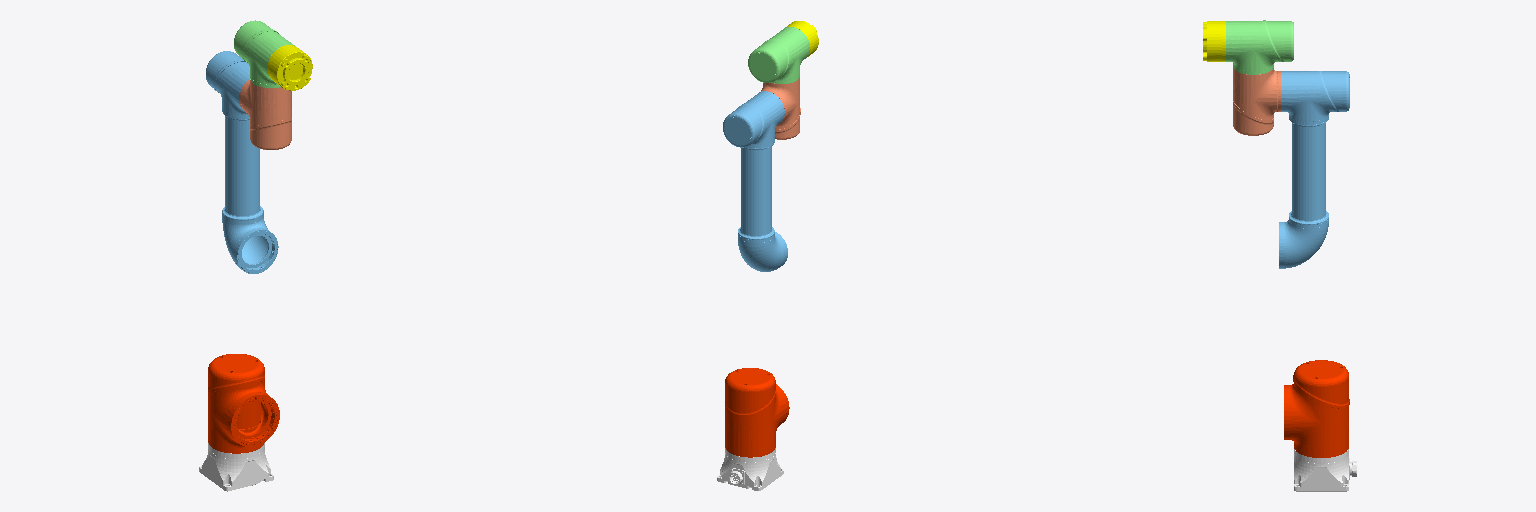
URDF robot description (ROCR6II_URDF_Vertical initialization):
<?xml version="1.0" encoding="utf-8"?>
<!-- This URDF was automatically created by SolidWorks to URDF Exporter! Originally created by [author] ([email redacted]) 
     Commit Version: 1.6.0-1-g15f4949  Build Version: 1.6.7594.29634
     For more information, please see http://wiki.ros.org/sw_urdf_exporter -->
<robot
  name="ROCR6II_URDF_Vertical initialization">
<link name="world" />
  <joint name="world_joint" type="fixed">
    <parent link="world" />
    <child link = "base_link" />
    <origin xyz="0.0 0.0 0.0" rpy="3.1415926536 3.1415926536  0.0" />
  </joint>
  <link name="base"/>
  <joint name="base_link-base_fixed_joint" type="fixed">
      <!-- NOTE: this rotation is only needed as long as base_link itself is
                 not corrected wrt the real robot (ie: rotated over 180
                 degrees)
      -->
      <origin xyz="0 0 0" rpy="0 0 -3.1415926536"/>
      <parent link="base_link"/>
      <child link="base"/>
    </joint>
  <link
    name="base_link">
    <inertial>
      <origin
        xyz="6.0184E-05 -0.0017311 0.027527"
        rpy="0 0 0" />
      <mass
        value="0.13958" />
      <inertia
        ixx="0.00015991"
        ixy="-3.4808E-07"
        ixz="1.9728E-07"
        iyy="0.00016434"
        iyz="5.3805E-07"
        izz="0.0002501" />
    </inertial>
    <visual>
      <origin
        xyz="0 0 0"
        rpy="0 0 0" />
      <geometry>
        <mesh
          filename="package://ROCR6II_URDF_Vertical initialization/meshes/base_link.STL" />
      </geometry>
      <material
        name="">
        <color
          rgba="1 1 1 1" />
      </material>
    </visual>
    <collision>
      <origin
        xyz="0 0 0"
        rpy="0 0 0" />
      <geometry>
        <mesh
          filename="package://ROCR6II_URDF_Vertical initialization/meshes/base_link.STL" />
      </geometry>
    </collision>
  </link>
  <link
    name="shoulder_Link">
    <inertial>
      <origin
        xyz="4.3598E-08 0.0037213 0.0030784"
        rpy="0 0 0" />
      <mass
        value="0.85978" />
      <inertia
        ixx="0.0016777"
        ixy="-6.0007E-09"
        ixz="-2.8617E-09"
        iyy="0.0016433"
        iyz="2.3262E-05"
        izz="0.0010333" />
    </inertial>
    <visual>
      <origin
        xyz="0 0 0"
        rpy="0 0 0" />
      <geometry>
        <mesh
          filename="package://ROCR6II_URDF_Vertical initialization/meshes/shoulder_Link.STL" />
      </geometry>
      <material
        name="">
        <color
          rgba="1 0.27059 0 1" />
      </material>
    </visual>
    <collision>
      <origin
        xyz="0 0 0"
        rpy="0 0 0" />
      <geometry>
        <mesh
          filename="package://ROCR6II_URDF_Vertical initialization/meshes/shoulder_Link.STL" />
      </geometry>
    </collision>
  </link>
  <joint
    name="shoulder_pan_joint"
    type="revolute">
    <origin
      xyz="0 0 0.1215"
      rpy="0 0 0" />
    <parent
      link="base_link" />
    <child
      link="shoulder_Link" />
    <axis
      xyz="0 0 1" />
    <limit
      lower="-3.1416"
      upper="3.1416"
      effort="150"
      velocity="30" />
  </joint>
  <link
    name="upper_arm_Link">
    <inertial>
      <origin
        xyz="-3.3972E-07 0.0032878 0.12622"
        rpy="0 0 0" />
      <mass
        value="1.638" />
      <inertia
        ixx="0.0031418"
        ixy="-7.428E-09"
        ixz="-8.1931E-09"
        iyy="0.0024219"
        iyz="8.4156E-05"
        izz="0.0023531" />
    </inertial>
    <visual>
      <origin
        xyz="0 0 0"
        rpy="0 0 0" />
      <geometry>
        <mesh
          filename="package://ROCR6II_URDF_Vertical initialization/meshes/upper_arm_Link.STL" />
      </geometry>
      <material
        name="">
        <color
          rgba="0.48235 0.40784 0.93333 1" />
      </material>
    </visual>
    <collision>
      <origin
        xyz="0 0 0"
        rpy="0 0 0" />
      <geometry>
        <mesh
          filename="package://ROCR6II_URDF_Vertical initialization/meshes/upper_arm_Link.STL" />
      </geometry>
    </collision>
  </link>
  <joint
    name="shoulder_lift_joint"
    type="revolute">
    <origin
      xyz="0 0.1225 0"
      rpy="0 0 0" />
    <parent
      link="shoulder_Link" />
    <child
      link="upper_arm_Link" />
    <axis
      xyz="0 1 0" />
    <limit
      lower="-3.1416"
      upper="3.1416"
      effort="150"
      velocity="30" />
  </joint>
  <link
    name="forearm_Link">
    <inertial>
      <origin
        xyz="1.5572E-06 -0.0051519 0.20823"
        rpy="0 0 0" />
      <mass
        value="0.60459" />
      <inertia
        ixx="0.0011958"
        ixy="3.3305E-09"
        ixz="-3.0271E-09"
        iyy="0.00092459"
        iyz="2.7412E-05"
        izz="0.00067247" />
    </inertial>
    <visual>
      <origin
        xyz="0 0 0"
        rpy="0 0 0" />
      <geometry>
        <mesh
          filename="package://ROCR6II_URDF_Vertical initialization/meshes/forearm_Link.STL" />
      </geometry>
      <material
        name="">
        <color
          rgba="0.52941 0.80784 0.98039 1" />
      </material>
    </visual>
    <collision>
      <origin
        xyz="0 0 0"
        rpy="0 0 0" />
      <geometry>
        <mesh
          filename="package://ROCR6II_URDF_Vertical initialization/meshes/forearm_Link.STL" />
      </geometry>
    </collision>
  </link>
  <joint
    name="elbow_joint"
    type="revolute">
    <origin
      xyz="0 -0.102 0.3"
      rpy="0 0 0" />
    <parent
      link="upper_arm_Link" />
    <child
      link="forearm_Link" />
    <axis
      xyz="0 1 0" />
    <limit
      lower="-3.1416"
      upper="3.1416"
      effort="150"
      velocity="30" />
  </joint>
  <link
    name="wrist_1_Link">
    <inertial>
      <origin
        xyz="4.1946E-07 0.087294 -0.010645"
        rpy="0 0 0" />
      <mass
        value="0.39508" />
      <inertia
        ixx="0.00051251"
        ixy="8.0364E-10"
        ixz="9.9527E-10"
        iyy="0.00050131"
        iyz="1.198E-05"
        izz="0.00023941" />
    </inertial>
    <visual>
      <origin
        xyz="0 0 0"
        rpy="0 0 0" />
      <geometry>
        <mesh
          filename="package://ROCR6II_URDF_Vertical initialization/meshes/wrist_1_Link.STL" />
      </geometry>
      <material
        name="">
        <color
          rgba="1 0.62745 0.47843 1" />
      </material>
    </visual>
    <collision>
      <origin
        xyz="0 0 0"
        rpy="0 0 0" />
      <geometry>
        <mesh
          filename="package://ROCR6II_URDF_Vertical initialization/meshes/wrist_1_Link.STL" />
      </geometry>
    </collision>
  </link>
  <joint
    name="wrist_1_joint"
    type="revolute">
    <origin
      xyz="0 0 0.276"
      rpy="0 0 0" />
    <parent
      link="forearm_Link" />
    <child
      link="wrist_1_Link" />
    <axis
      xyz="0 1 0" />
    <limit
      lower="-3.1416"
      upper="3.1416"
      effort="150"
      velocity="30" />
  </joint>
  <link
    name="wrist_2_Link">
    <inertial>
      <origin
        xyz="4.4522E-10 -0.010645 0.087294"
        rpy="0 0 0" />
      <mass
        value="0.39508" />
      <inertia
        ixx="0.00051251"
        ixy="2.9744E-10"
        ixz="-1.2E-09"
        iyy="0.00023941"
        iyz="1.198E-05"
        izz="0.0005013" />
    </inertial>
    <visual>
      <origin
        xyz="0 0 0"
        rpy="0 0 0" />
      <geometry>
        <mesh
          filename="package://ROCR6II_URDF_Vertical initialization/meshes/wrist_2_Link.STL" />
      </geometry>
      <material
        name="">
        <color
          rgba="0.59608 0.98431 0.59608 1" />
      </material>
    </visual>
    <collision>
      <origin
        xyz="0 0 0"
        rpy="0 0 0" />
      <geometry>
        <mesh
          filename="package://ROCR6II_URDF_Vertical initialization/meshes/wrist_2_Link.STL" />
      </geometry>
    </collision>
  </link>
  <joint
    name="wrist_2_joint"
    type="revolute">
    <origin
      xyz="0 0.09 0"
      rpy="0 0 0" />
    <parent
      link="wrist_1_Link" />
    <child
      link="wrist_2_Link" />
    <axis
      xyz="0 0 1" />
    <limit
      lower="-3.1416"
      upper="3.1416"
      effort="150"
      velocity="30" />
  </joint>
  <link
    name="wrist_3_Link">
    <inertial>
      <origin
        xyz="-3.3896E-09 0.064961 2.5465E-05"
        rpy="0 0 0" />
      <mass
        value="0.075244" />
      <inertia
        ixx="3.1502E-05"
        ixy="2.9042E-13"
        ixz="6.2304E-12"
        iyy="5.0964E-05"
        iyz="6.2644E-07"
        izz="3.1666E-05" />
    </inertial>
    <visual>
      <origin
        xyz="0 0 0"
        rpy="0 0 0" />
      <geometry>
        <mesh
          filename="package://ROCR6II_URDF_Vertical initialization/meshes/wrist_3_Link.STL" />
      </geometry>
      <material
        name="">
        <color
          rgba="1 1 0 1" />
      </material>
    </visual>
    <collision>
      <origin
        xyz="0 0 0"
        rpy="0 0 0" />
      <geometry>
        <mesh
          filename="package://ROCR6II_URDF_Vertical initialization/meshes/wrist_3_Link.STL" />
      </geometry>
    </collision>
  </link>
  <joint
    name="wrist_3_joint"
    type="revolute">
    <origin
      xyz="0 0 0.09"
      rpy="0 0 0" />
    <parent
      link="wrist_2_Link" />
    <child
      link="wrist_3_Link" />
    <axis
      xyz="0 1 0" />
    <limit
      lower="-3.1416"
      upper="3.1416"
      effort="150"
      velocity="30" />
  </joint>

                      <!--new add content -->
  <joint name="ee_fixed_joint" type="fixed">
    <parent link="wrist_3_Link"/>
    <child link="ee_Link"/>
    <origin rpy="0.0 0.0 1.57079632679" xyz="0.0 0.090 0.0"/>
  </joint>
  <link name="ee_Link">
    <collision>
      <geometry>
        <box size="0.01 0.01 0.01"/>
      </geometry>
      <origin rpy="0 0 0" xyz="-0.01 0 0"/>
    </collision>
  </link>
	
     <!-- Frame coincident with all-zeros TCP on ROCR6II controller -->
  <link name="tool0"/>
  <joint name="wrist_3_Link-tool0_fixed_joint" type="fixed">
    <origin rpy="-1.57079632679 0 0" xyz="0 0.082 0"/>
    <parent link="wrist_3_Link"/>
    <child link="tool0"/>
  </joint>
</robot>

--- What the picture shows (computed from the rendered views, not written in the file) ---
The picture shows the robot from 3 angles, left to right: view 1: azimuth 30°, elevation 25°; view 2: azimuth 150°, elevation 25°; view 3: azimuth 270°, elevation 25°; orthographic projection.
Robot: ROCR6II_URDF_Vertical initialization — 11 links, 10 joints (6 revolute, 4 fixed); root link world; default pose: all joints at 0.
Visible links, largest first — view 1: forearm_Link, shoulder_Link, wrist_1_Link, base_link, wrist_2_Link, wrist_3_Link; view 2: forearm_Link, shoulder_Link, wrist_2_Link, base_link, wrist_1_Link; view 3: forearm_Link, shoulder_Link, wrist_2_Link, wrist_1_Link, base_link, wrist_3_Link.
Link boxes in pixels (x1,y1,x2,y2): forearm_Link: (206,51,278,273); shoulder_Link: (208,354,279,453); wrist_1_Link: (239,79,291,149); base_link: (199,443,273,491); wrist_2_Link: (234,20,294,87); wrist_3_Link: (267,45,312,90); forearm_Link: (723,91,787,271); shoulder_Link: (725,368,789,457); wrist_2_Link: (748,27,809,83); base_link: (717,448,783,490); wrist_1_Link: (759,78,800,139); forearm_Link: (1279,71,1349,268); shoulder_Link: (1284,360,1349,457); wrist_2_Link: (1226,20,1293,74); wrist_1_Link: (1233,68,1280,135); base_link: (1294,449,1356,491); wrist_3_Link: (1203,21,1225,61).
Bounding box of the posed robot: 0.092 × 0.25 × 0.8215 m (x, y, z).
Meshes: 7 distinct files referenced, 6 mesh visuals loaded (6 binary STL); not drawn: 1 (reference not matched to a file when rendering).
